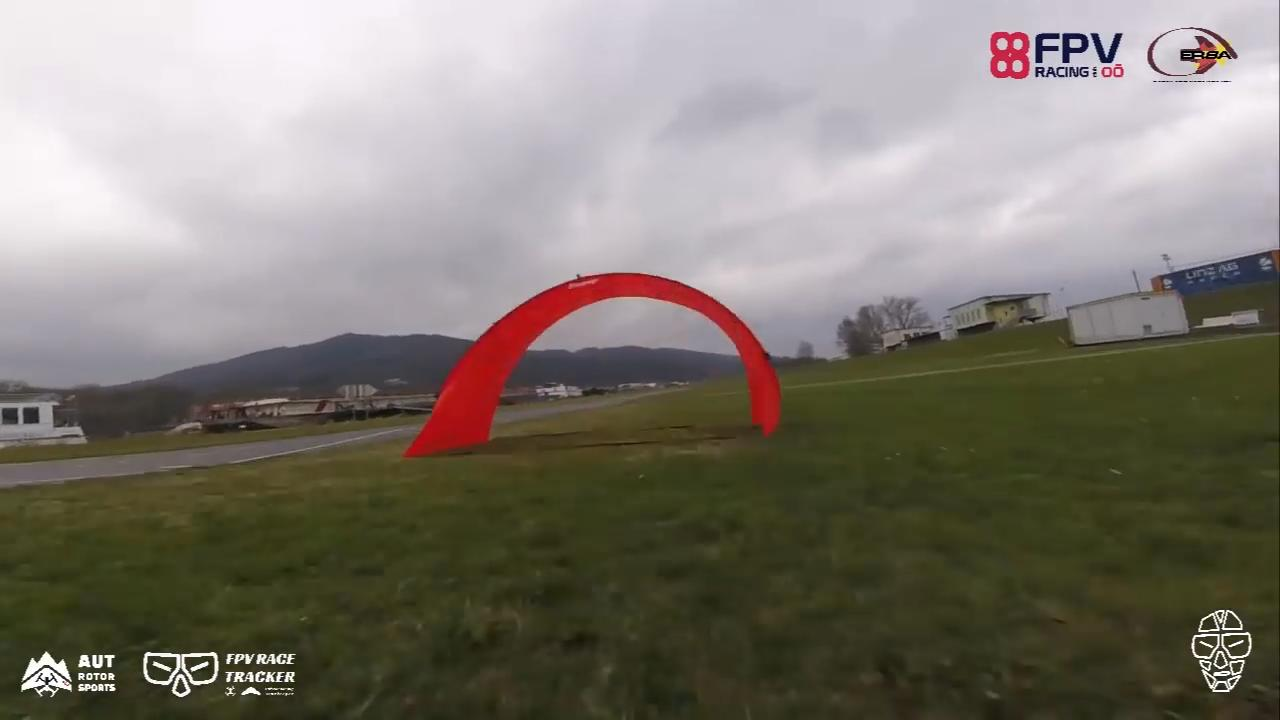gate: (403, 267, 791, 460)
